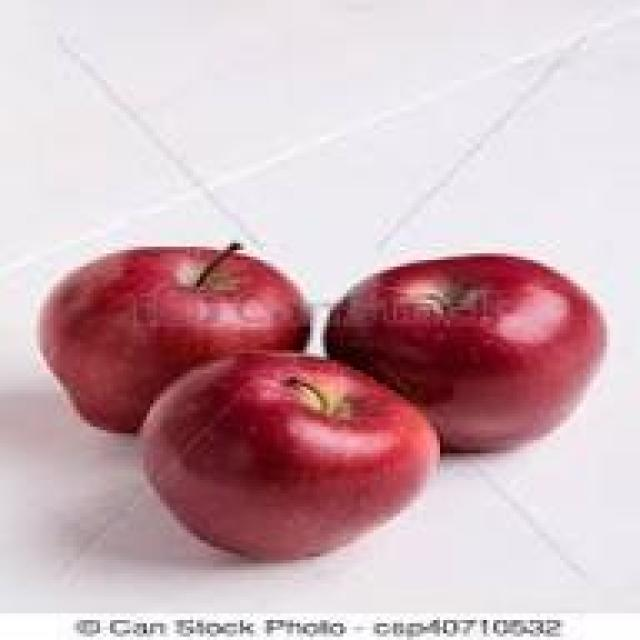apple: (143, 356, 437, 546), (334, 250, 604, 450), (33, 250, 317, 430)
